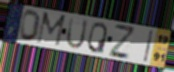I: (142, 29, 154, 64)
M: (35, 11, 67, 48)
O: (19, 9, 42, 43)
Q: (86, 21, 109, 55)
U: (65, 16, 90, 50)
Z: (108, 22, 135, 61)
